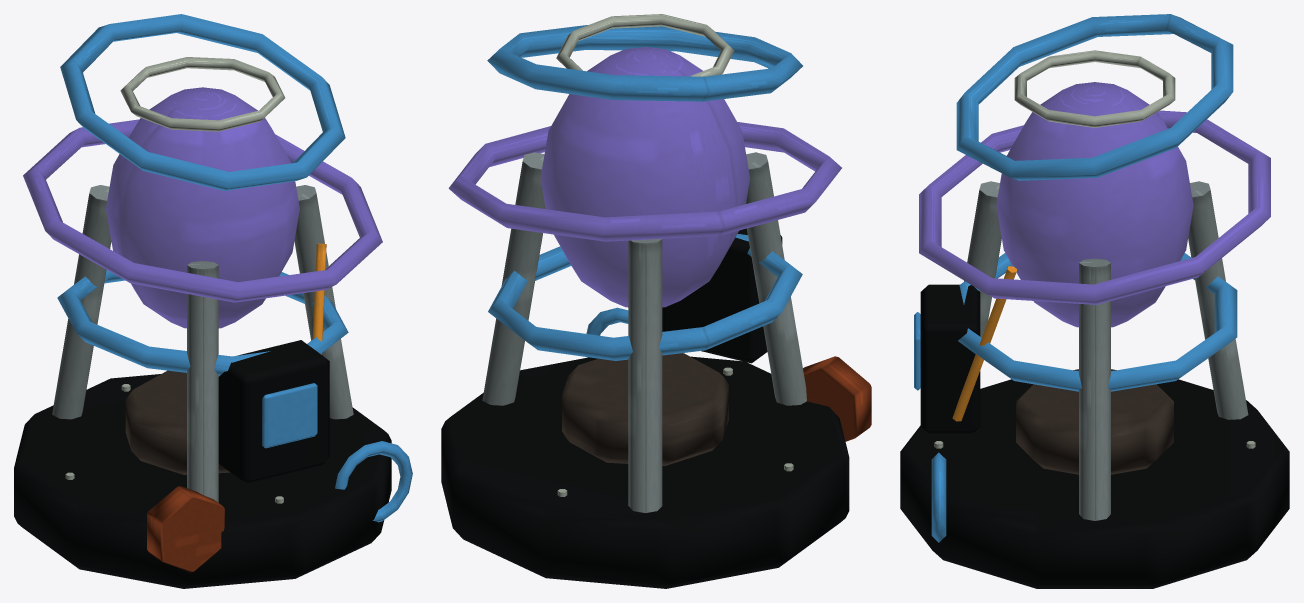
Rendered from reservoir-low.glb.
3 renders of one model, left to right at view 1: azimuth 30°, elevation 25°; view 2: azimuth 150°, elevation 25°; view 3: azimuth 270°, elevation 25°, orthographic. The views are drawn at different scales.
Visible parts, largest first — view 1: Reservoir_Base.001, ANIM_MATTER_CORE.001, LEVEL_3.003, LEVEL_2.003, Reservoir_Control_Box.001, Reservoir_Strut_2.001, LEVEL_0.003, LEVEL_1.003, PORT_Material.012, Reservoir_Strut_1.001, Reservoir_Containment_Collar.001, Reservoir_Strut_0.001 (+3 smaller); view 2: Reservoir_Base.001, ANIM_MATTER_CORE.001, LEVEL_2.003, LEVEL_3.003, LEVEL_0.003, Reservoir_Strut_1.001, LEVEL_1.003, Reservoir_Strut_0.001, Reservoir_Strut_2.001, Reservoir_Control_Box.001, PORT_Material.012, Reservoir_Containment_Collar.001 (+1 smaller); view 3: Reservoir_Base.001, ANIM_MATTER_CORE.001, LEVEL_3.003, LEVEL_2.003, LEVEL_0.003, Reservoir_Control_Box.001, Reservoir_Strut_0.001, LEVEL_1.003, Reservoir_Strut_1.001, Reservoir_Containment_Collar.001, Reservoir_Strut_2.001, Reservoir_Power_Loom.001 (+2 smaller).
Part boxes in pixels (x1,y1,x2,y2): Reservoir_Base.001: [14, 374, 391, 588]; ANIM_MATTER_CORE.001: [106, 87, 299, 328]; LEVEL_3.003: [60, 14, 345, 190]; LEVEL_2.003: [23, 119, 382, 302]; Reservoir_Control_Box.001: [218, 340, 329, 484]; Reservoir_Strut_2.001: [187, 261, 218, 502]; LEVEL_0.003: [125, 370, 229, 474]; LEVEL_1.003: [57, 270, 348, 376]; PORT_Material.012: [147, 486, 224, 572]; Reservoir_Strut_1.001: [52, 185, 111, 419]; Reservoir_Containment_Collar.001: [120, 57, 285, 131]; Reservoir_Strut_0.001: [294, 185, 353, 419]; Reservoir_Base.001: [441, 356, 849, 588]; ANIM_MATTER_CORE.001: [540, 47, 749, 307]; LEVEL_2.003: [448, 122, 841, 241]; LEVEL_3.003: [487, 25, 802, 101]; LEVEL_0.003: [562, 353, 728, 465]; Reservoir_Strut_1.001: [628, 239, 662, 513]; LEVEL_1.003: [488, 234, 802, 360]; Reservoir_Strut_0.001: [482, 152, 545, 405]; Reservoir_Strut_2.001: [746, 152, 806, 405]; Reservoir_Control_Box.001: [662, 228, 782, 363]; PORT_Material.012: [803, 356, 871, 441]; Reservoir_Containment_Collar.001: [556, 14, 734, 76]; Reservoir_Base.001: [900, 379, 1289, 588]; ANIM_MATTER_CORE.001: [996, 82, 1193, 327]; LEVEL_3.003: [956, 14, 1233, 180]; LEVEL_2.003: [919, 110, 1270, 304]; LEVEL_0.003: [1016, 369, 1173, 474]; Reservoir_Control_Box.001: [920, 284, 980, 434]; Reservoir_Strut_0.001: [1079, 258, 1110, 520]; LEVEL_1.003: [958, 253, 1237, 391]; Reservoir_Strut_1.001: [1188, 181, 1248, 419]; Reservoir_Containment_Collar.001: [1014, 50, 1175, 127]; Reservoir_Strut_2.001: [964, 181, 1001, 337]; Reservoir_Power_Loom.001: [952, 266, 1016, 421].
Size of the model in its own units: 0.8179 by 1.1 by 0.8476.
Materials: 8 (8 with a texture image).
